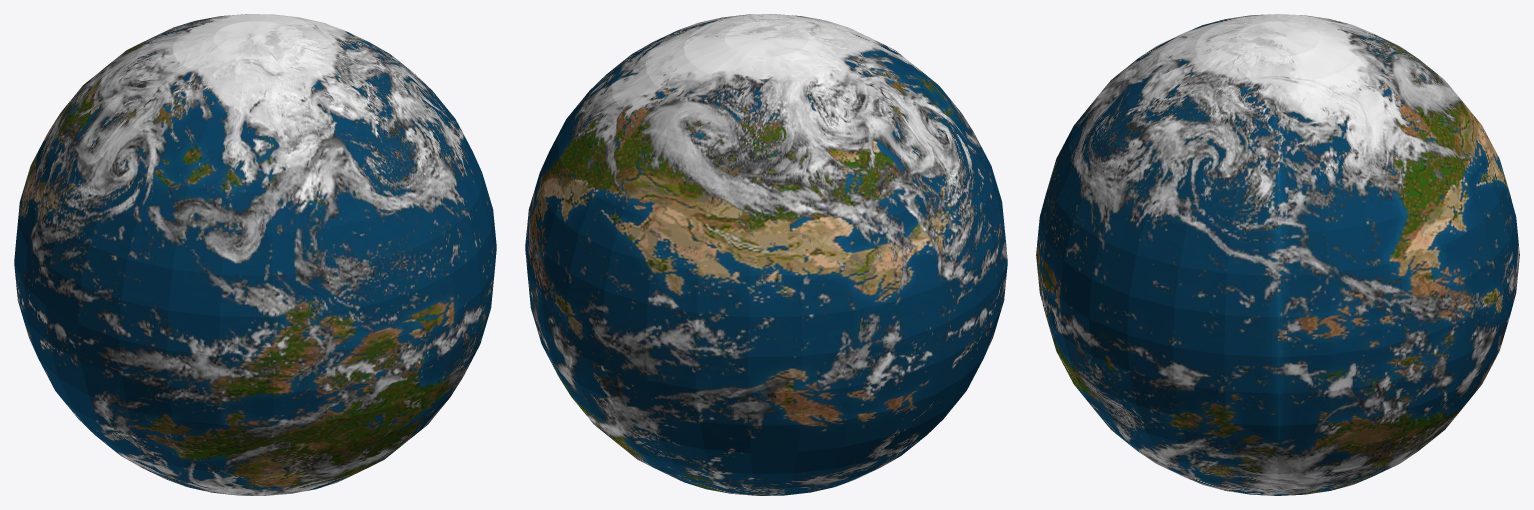
Rendered from agricultural.glb.
The picture shows the model from 3 angles, left to right: view 1: azimuth 30°, elevation 25°; view 2: azimuth 150°, elevation 25°; view 3: azimuth 270°, elevation 25°; orthographic projection.
Parts seen in each view (by area): view 1: agri_sphere.obj; view 2: agri_sphere.obj; view 3: agri_sphere.obj.
Part boxes in pixels (left/top/right/bottom): agri_sphere.obj: left=14, top=14, right=496, bottom=495; agri_sphere.obj: left=525, top=14, right=1007, bottom=495; agri_sphere.obj: left=1036, top=14, right=1519, bottom=495.
Size of the model in its own units: 2 by 2 by 2.
1 material, 1 textured.
